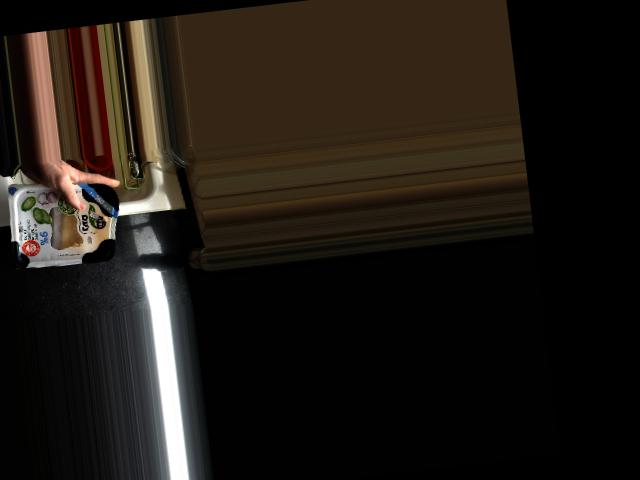cheese: (8, 173, 125, 270)
